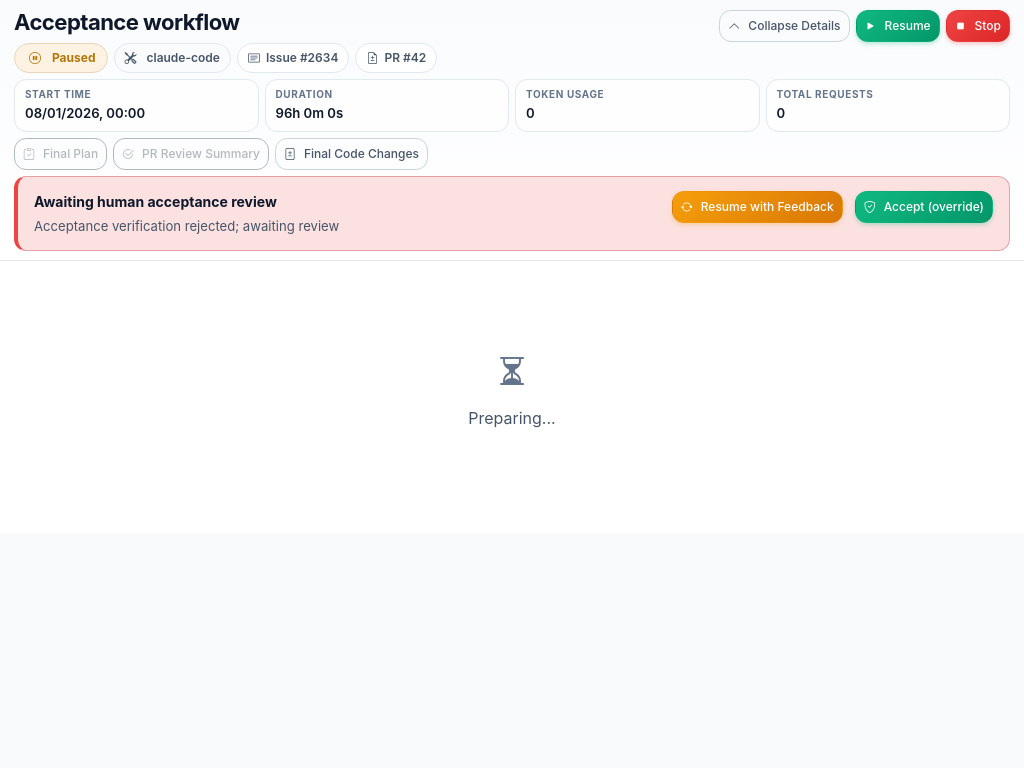
it: WorkflowTimeline paused-state banner (#2634) › closes the feedback modal after a successful submit
Click the button with aria-label "new development round": (757, 207) [672,191,843,223]
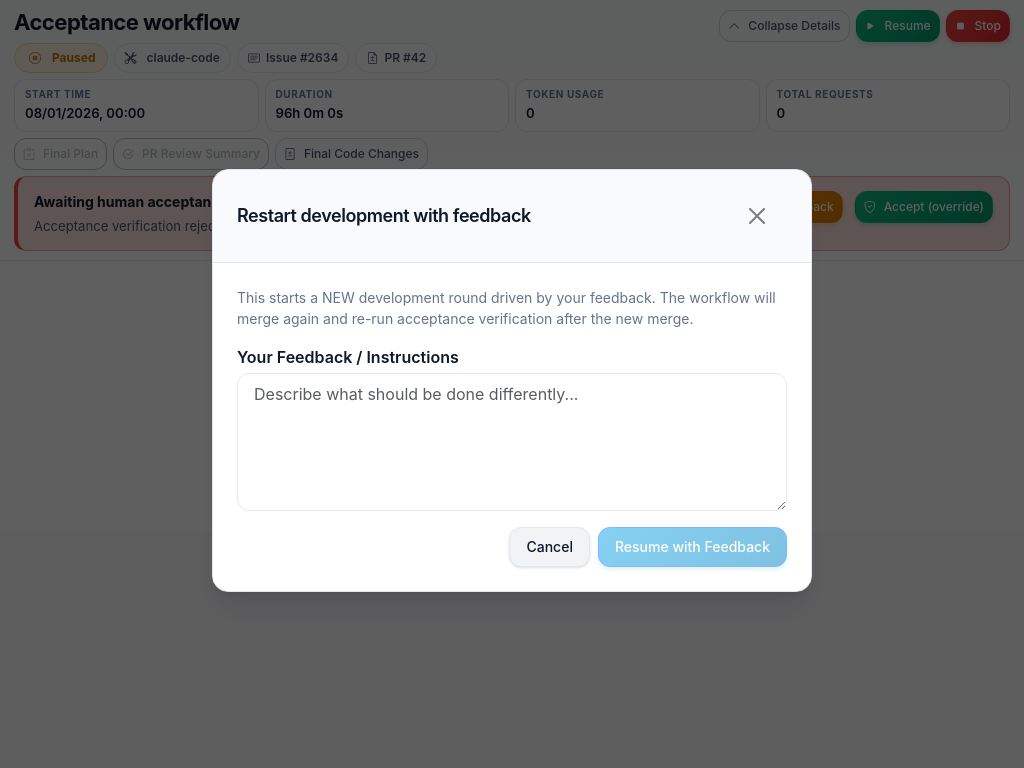
In the text box: (512, 442) [237,372,787,510], type "Re-run with the new fixture."
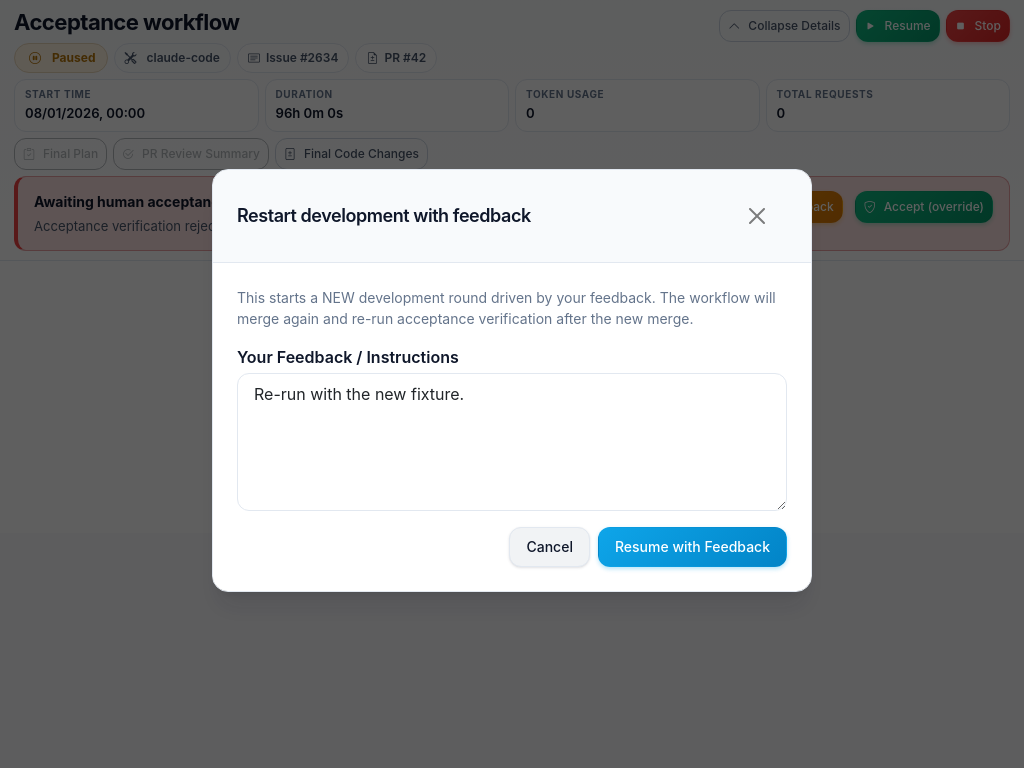
Click the button "Resume with Feedback": (692, 546) [598,526,787,566]
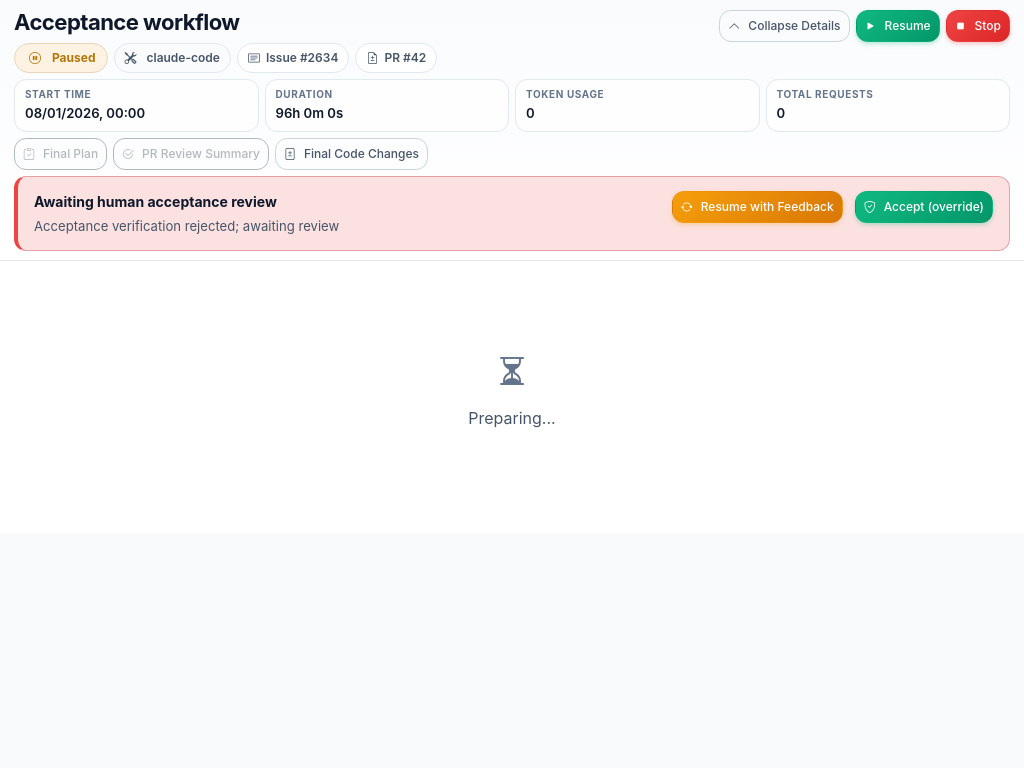
Result: the dialog is gone
